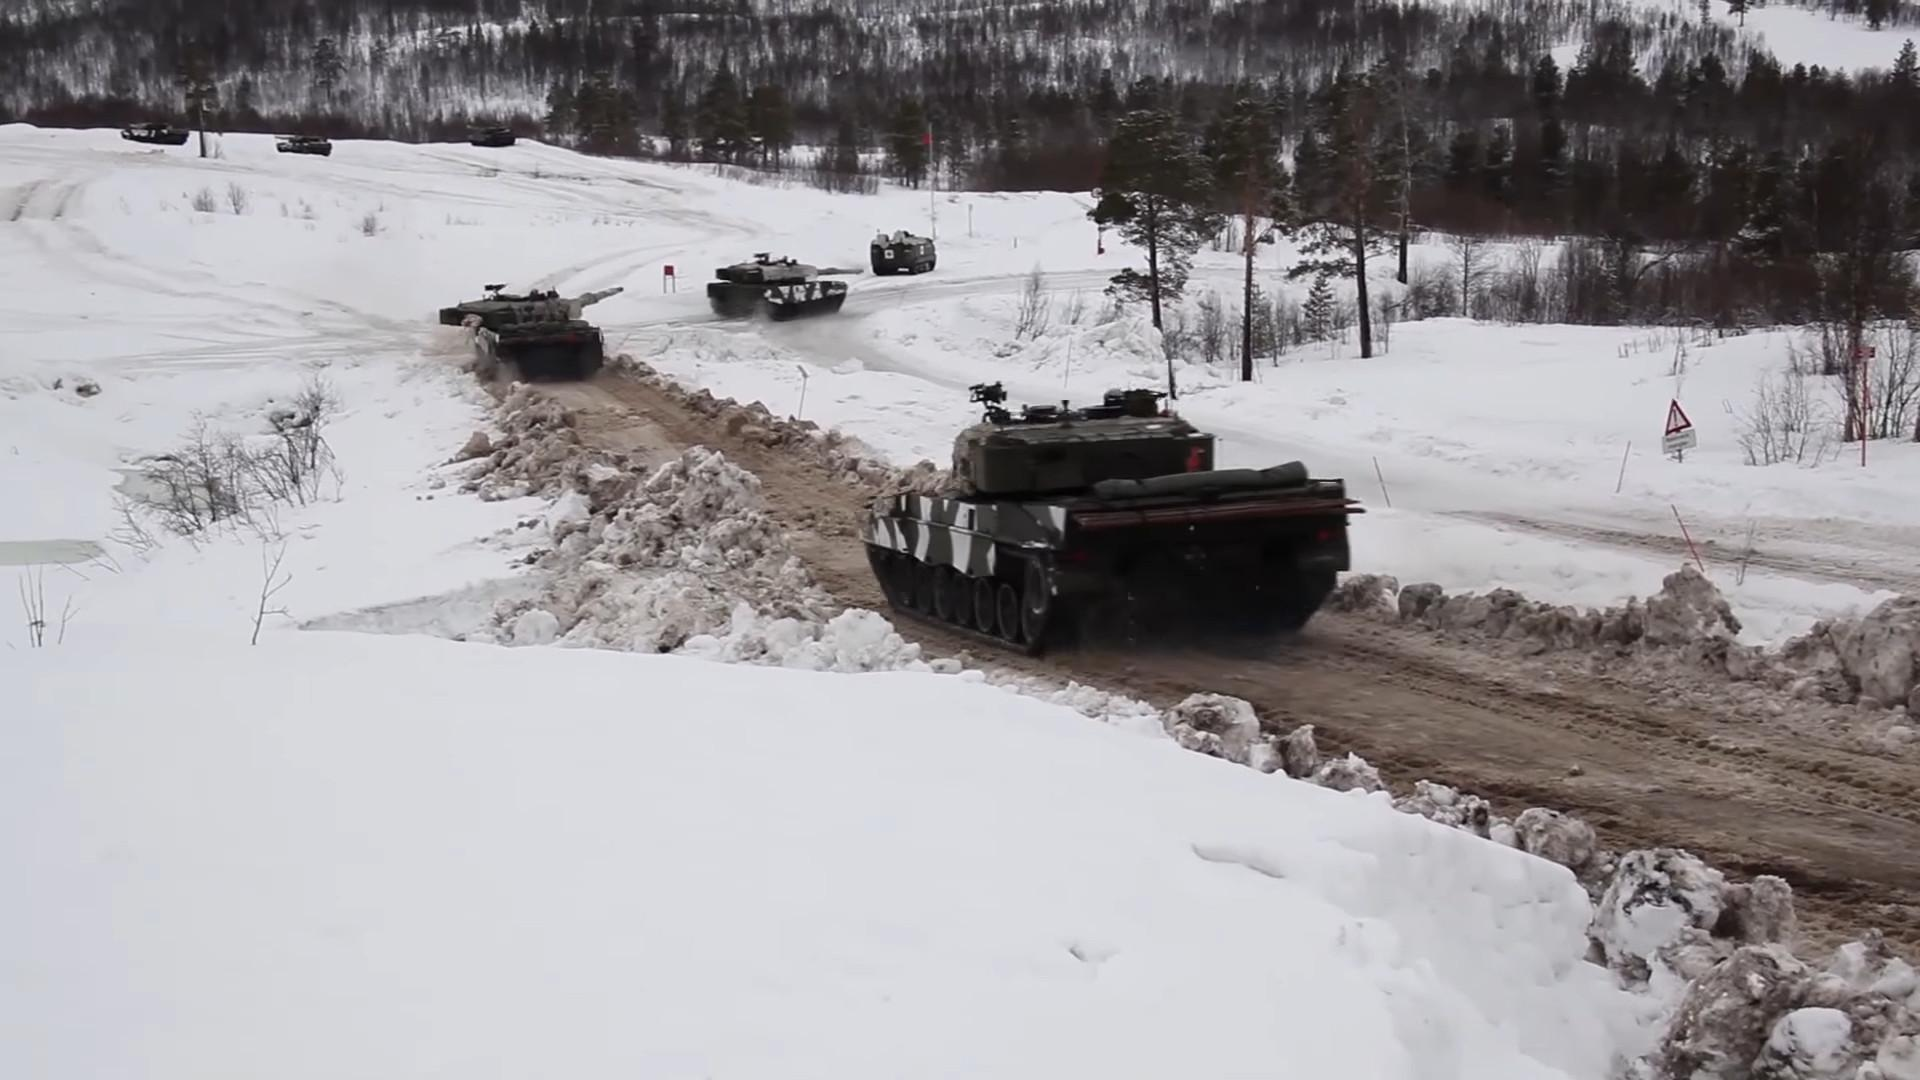tank: (855, 388, 1348, 655), (442, 285, 625, 378), (707, 260, 864, 319)
